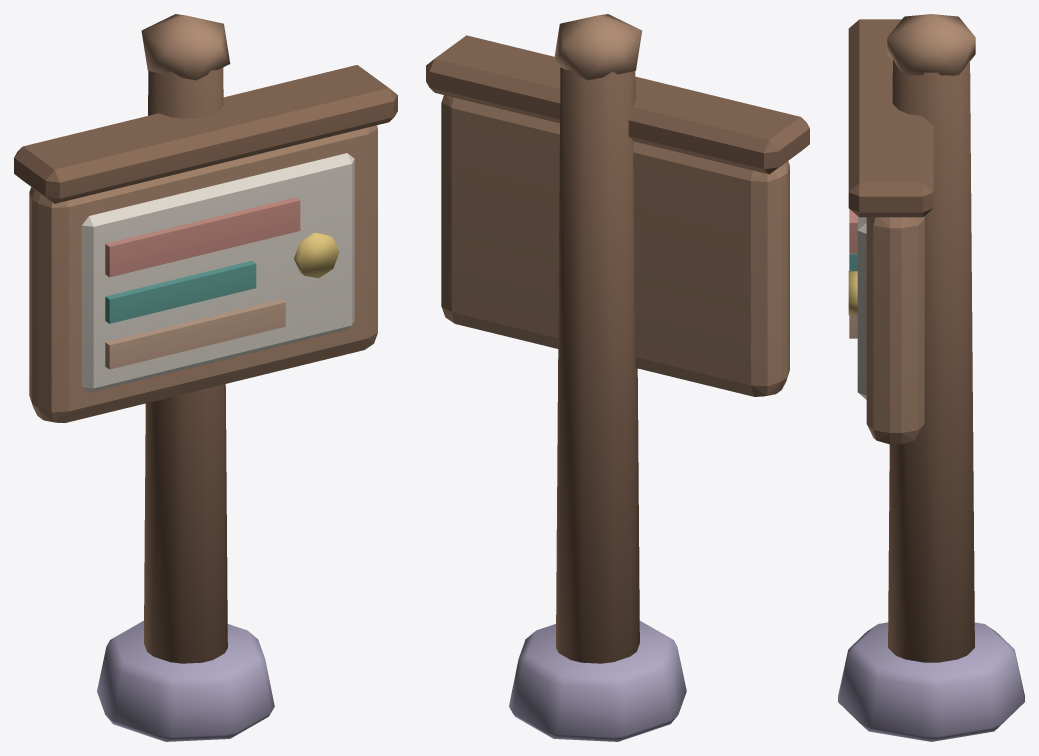
File: signboard.glb
The picture shows the model from 3 angles, left to right: view 1: azimuth 30°, elevation 25°; view 2: azimuth 150°, elevation 25°; view 3: azimuth 270°, elevation 25°; orthographic projection.
Parts seen in each view (by area): view 1: signboard; view 2: signboard; view 3: signboard.
Boxes of the visible parts, x1,y1,x2,y2 form: signboard: [14, 14, 397, 741]; signboard: [426, 14, 809, 741]; signboard: [838, 14, 1024, 741].
Bounding box in the file's own units: 0.48 × 0.9 × 0.22.
